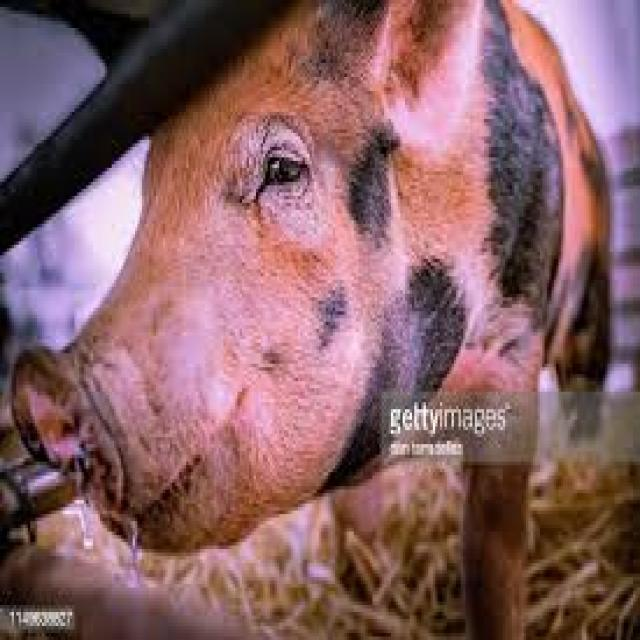pig: (15, 0, 609, 549), (462, 450, 530, 639)
